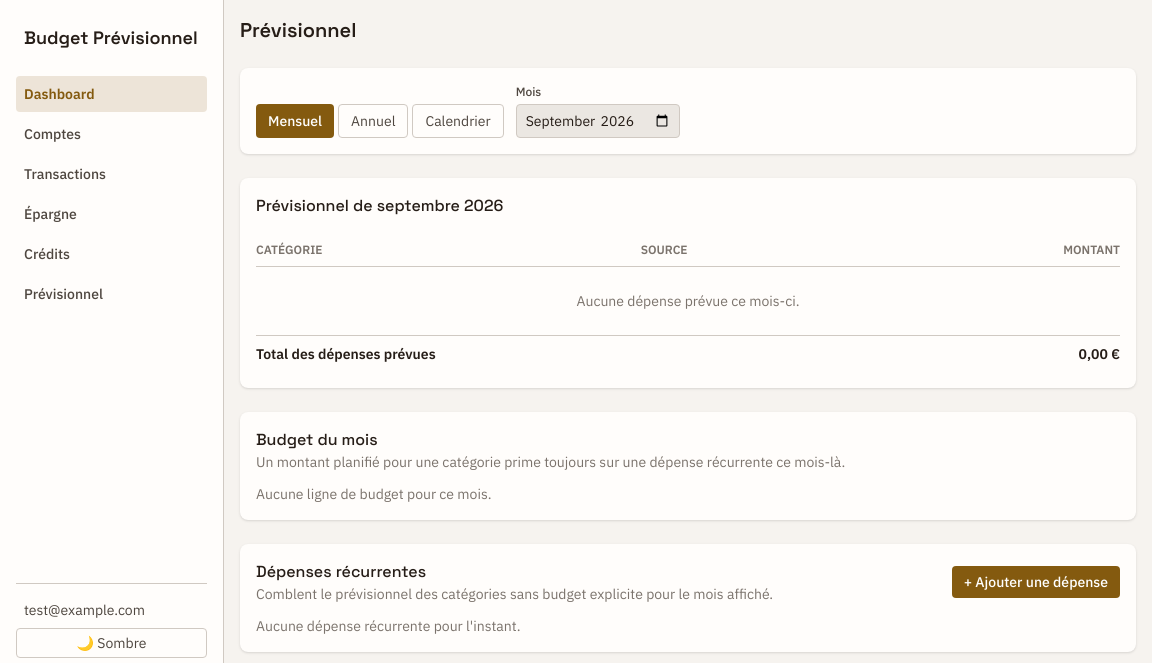
ForecastPage › jumps back to the monthly detail from the annual view
Expected: the text "Aucune dépense prévue ce mois-ci." is shown, [256, 266, 1120, 336]
Click the button "Annuel" at (373, 121), box [338, 104, 408, 138]
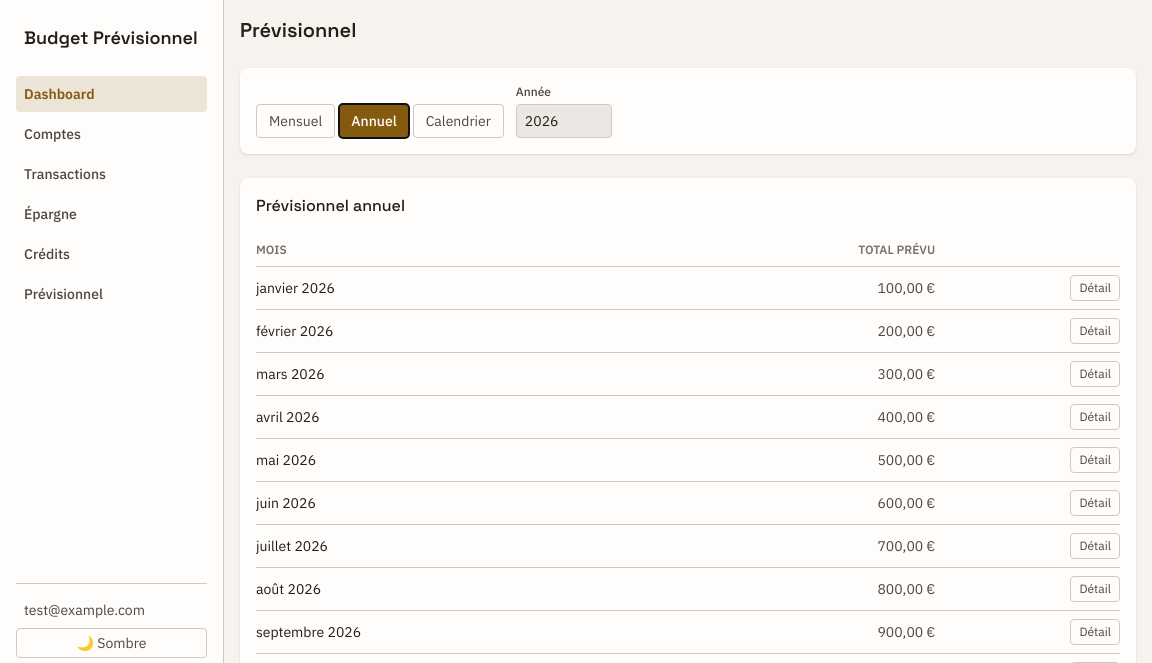
Click the button "Détail" in the row of "mars 2026" at (1095, 374), box [1070, 361, 1120, 387]
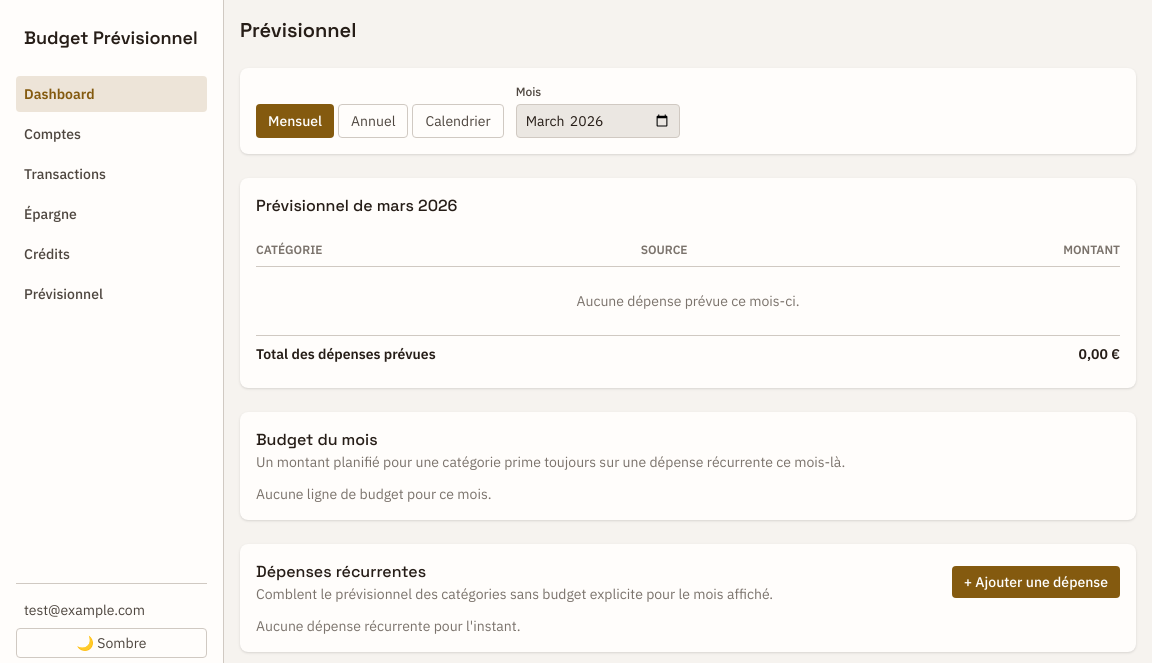
Expected: the field labelled "Mois" holds "2026-03", [516, 104, 680, 138]
